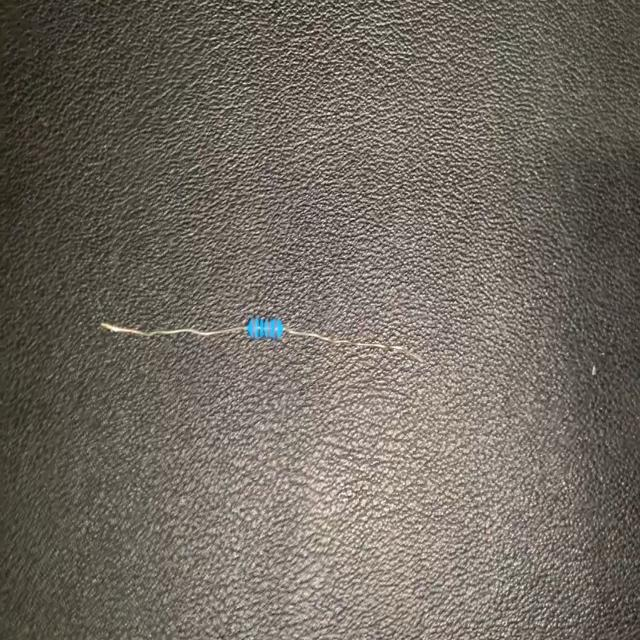resistor: (93, 308, 429, 374)
